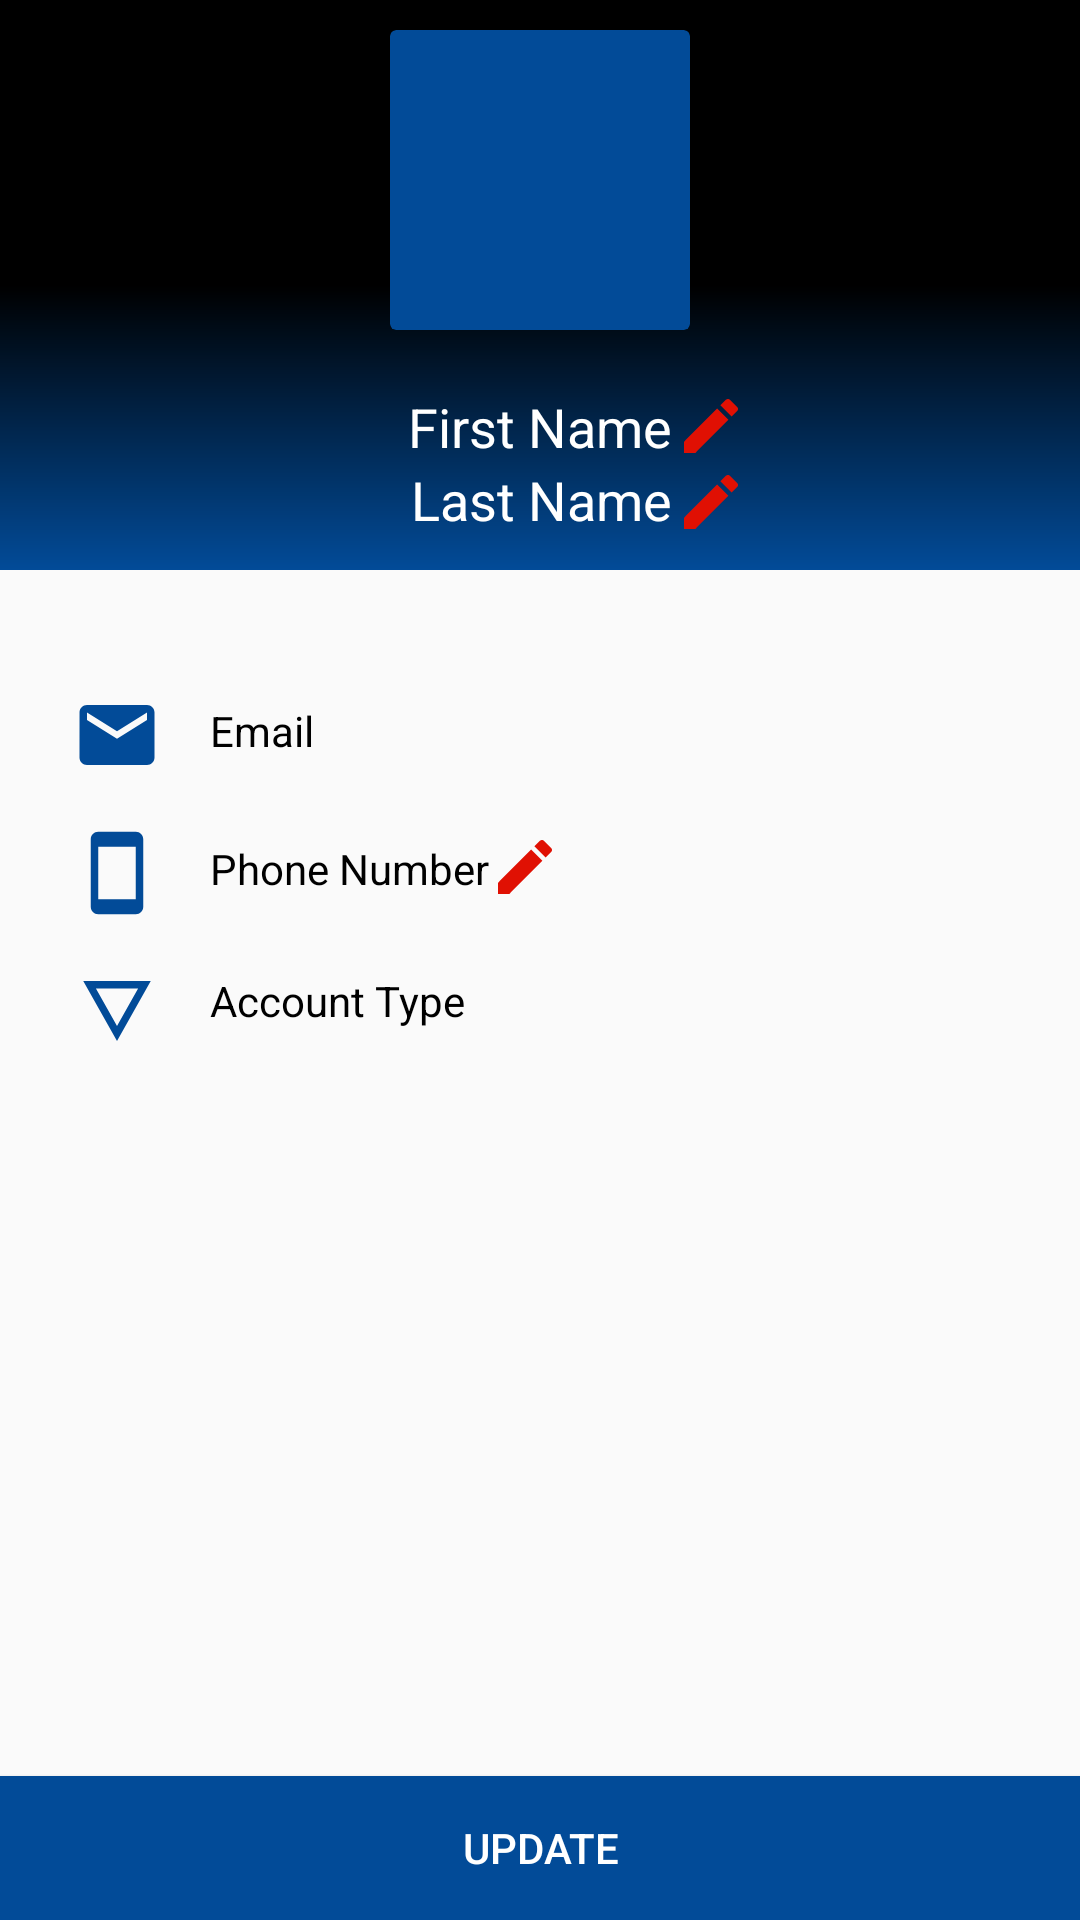

Where to tap for icons on this 1080w x 1920h app screen, as point (x, y):
edit: point (711, 426), point (711, 502), point (525, 867)
smartphone: point (117, 873)
